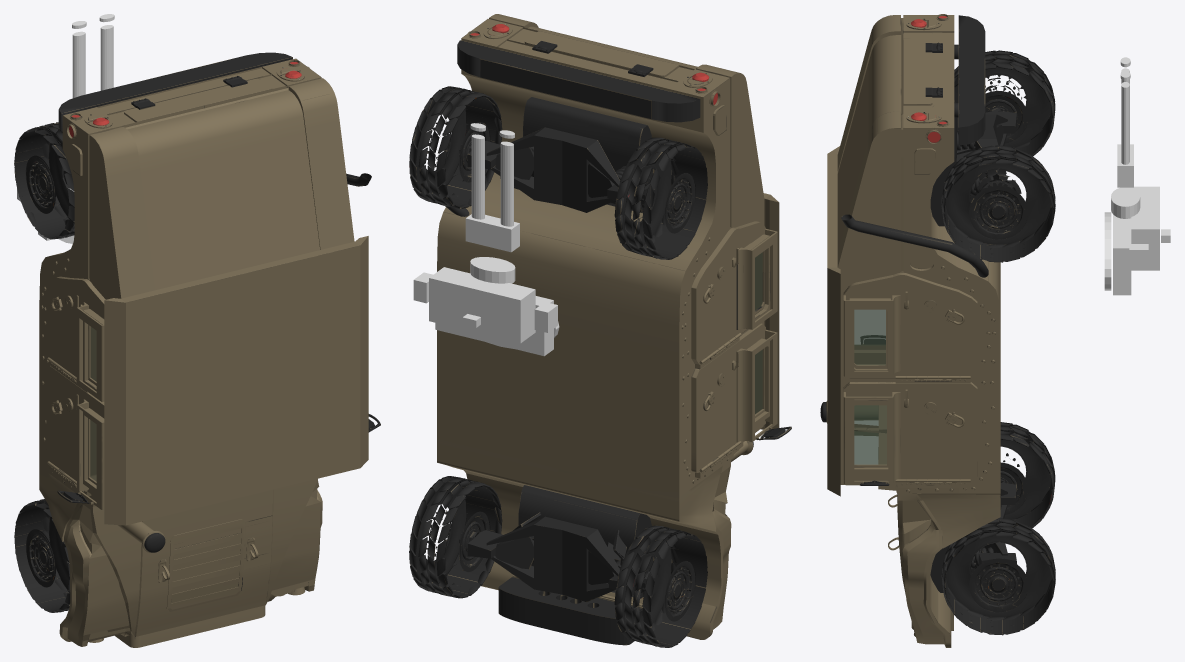
Rendered from humvee_armed_v1.glb.
3 renders of one model, left to right at view 1: azimuth 30°, elevation 25°; view 2: azimuth 150°, elevation 25°; view 3: azimuth 270°, elevation 25°, orthographic. The views are drawn at different scales.
Parts seen in each view (by area): view 1: Truck.001, Truck.001_BaseColor_0.001, armed_barrel_01, armed_barrel_02, Glass of truct; view 2: Truck.001, Truck.001_BaseColor_0.001, armed_turret_body, armed_gun_block, armed_turret_base, armed_barrel_01, armed_barrel_02, armed_mantlet, Glass of truct, armed_side_left; view 3: Truck.001, Truck.001_BaseColor_0.001, Glass of truct, armed_turret_body, armed_turret_base, armed_mantlet, armed_barrel_02, armed_ring, armed_gun_block, armed_side_right.
Boxes of the visible parts, x1=… form: Truck.001: x1=14, y1=52, x2=379, y2=646; Truck.001_BaseColor_0.001: x1=14, y1=55, x2=380, y2=647; armed_barrel_01: x1=72, y1=31, x2=85, y2=98; armed_barrel_02: x1=100, y1=25, x2=113, y2=90; Glass of truct: x1=90, y1=327, x2=96, y2=481; Truck.001: x1=409, y1=14, x2=789, y2=647; Truck.001_BaseColor_0.001: x1=431, y1=23, x2=791, y2=645; armed_turret_body: x1=429, y1=267, x2=535, y2=343; armed_gun_block: x1=465, y1=214, x2=519, y2=252; armed_turret_base: x1=435, y1=296, x2=553, y2=356; armed_barrel_01: x1=500, y1=141, x2=513, y2=226; armed_barrel_02: x1=471, y1=134, x2=484, y2=219; armed_mantlet: x1=470, y1=257, x2=515, y2=283; Glass of truct: x1=755, y1=252, x2=762, y2=413; armed_side_left: x1=534, y1=302, x2=557, y2=332; Truck.001: x1=820, y1=15, x2=1055, y2=647; Truck.001_BaseColor_0.001: x1=820, y1=14, x2=1055, y2=636; Glass of truct: x1=854, y1=309, x2=886, y2=464; armed_turret_body: x1=1131, y1=186, x2=1159, y2=270; armed_turret_base: x1=1113, y1=214, x2=1131, y2=295; armed_mantlet: x1=1111, y1=187, x2=1140, y2=218; armed_barrel_02: x1=1121, y1=82, x2=1129, y2=164; armed_ring: x1=1104, y1=212, x2=1111, y2=290; armed_gun_block: x1=1117, y1=144, x2=1133, y2=187; armed_side_right: x1=1129, y1=244, x2=1148, y2=269.
Size of the model in its own units: 2.81 by 4.6 by 2.74.
Materials: 5 (1 with a texture image).
